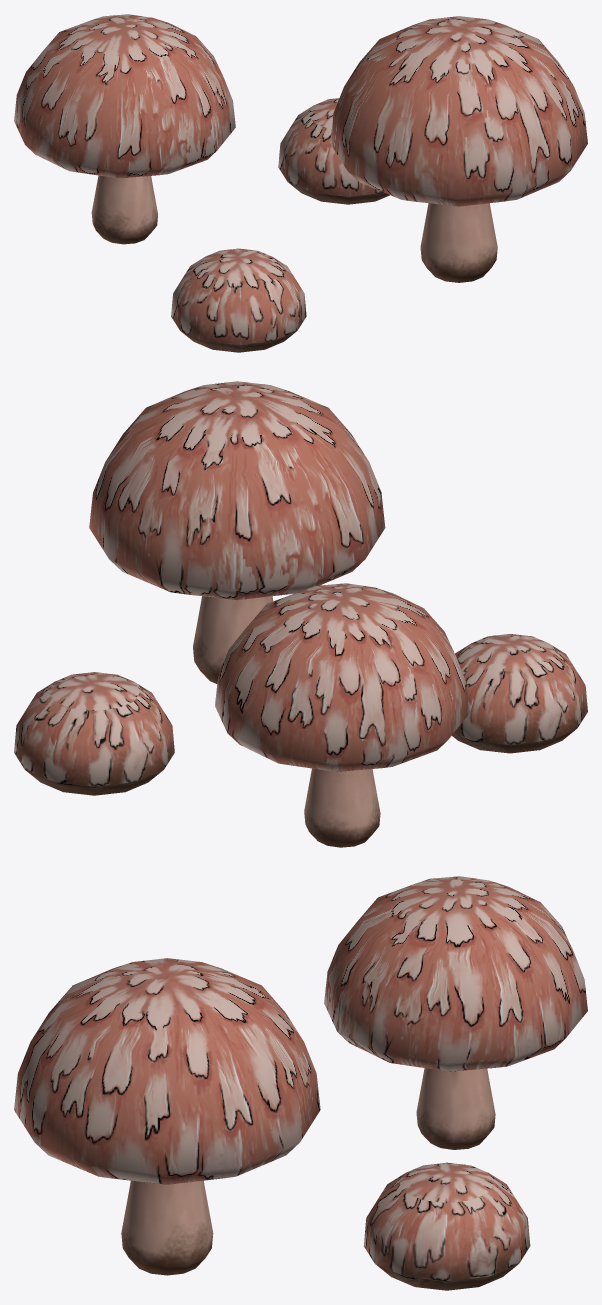
File: SM_Mushroom_Growing2.fbx
The picture shows the model from 3 angles, top to bottom: view 1: azimuth 30°, elevation 25°; view 2: azimuth 150°, elevation 25°; view 3: azimuth 270°, elevation 25°; orthographic projection. The views are drawn at different scales.
Parts seen in each view (by area): view 1: SM_Mushroom_Growing2; view 2: SM_Mushroom_Growing2; view 3: SM_Mushroom_Growing2.
Boxes of the visible parts, bbox=[...] form: SM_Mushroom_Growing2: bbox=[14, 14, 587, 352]; SM_Mushroom_Growing2: bbox=[14, 381, 587, 847]; SM_Mushroom_Growing2: bbox=[14, 876, 587, 1290].
Bounding box in the file's own units: 44.27 × 24.77 × 43.99.
